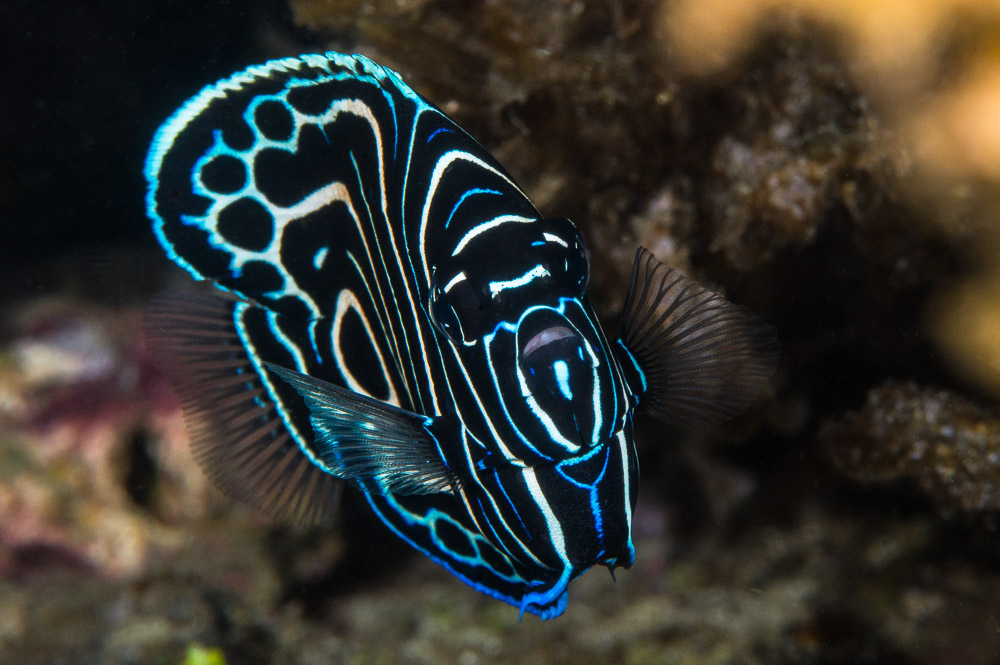Pomacanthus_imperator: (117, 40, 684, 619)
